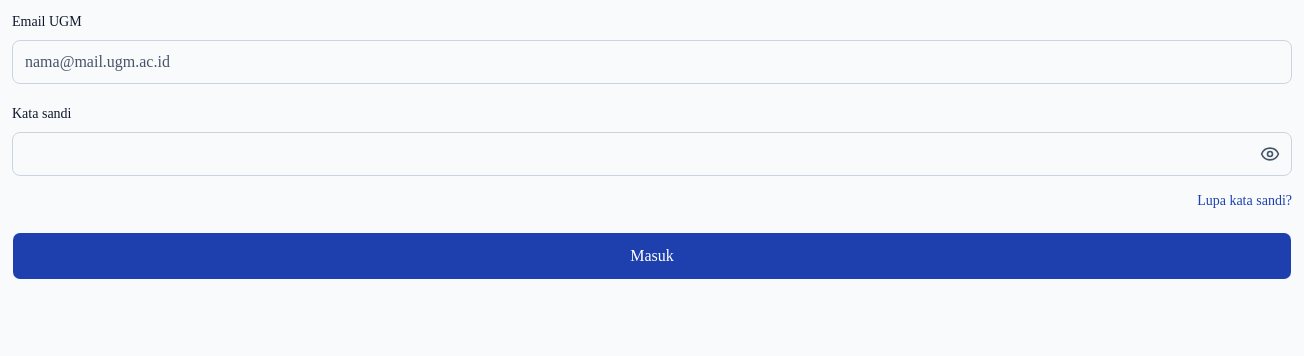
it: LoginForm, US-02 › shows the answer of api for a wrong password
The image size is (1304, 356).
Type "rani@mail.ugm.ac.id" into the field labelled "Email UGM". click: (652, 62)
box: [12,40,1292,84]
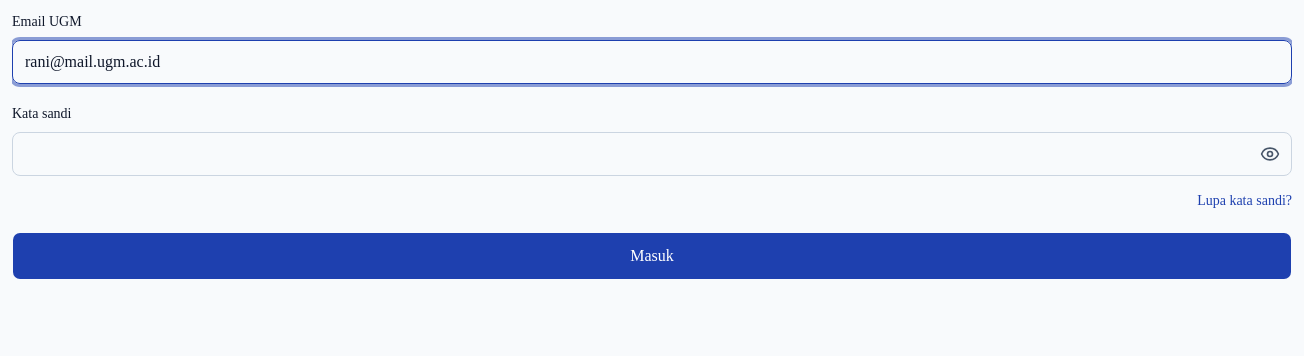
Type "salah sekali" into the password field labelled "Kata sandi". click: (652, 154)
box: [12,132,1292,176]
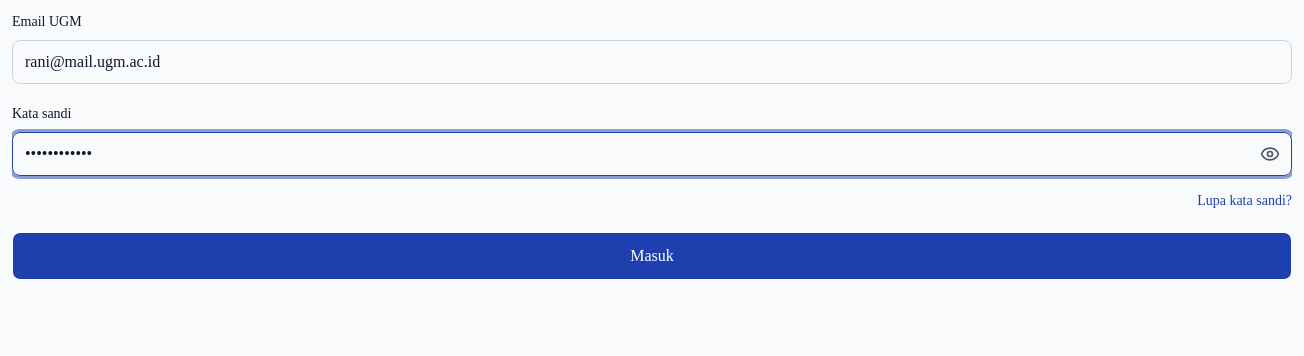
Click the button "Masuk". click: (652, 256)
box: [12,232,1292,280]
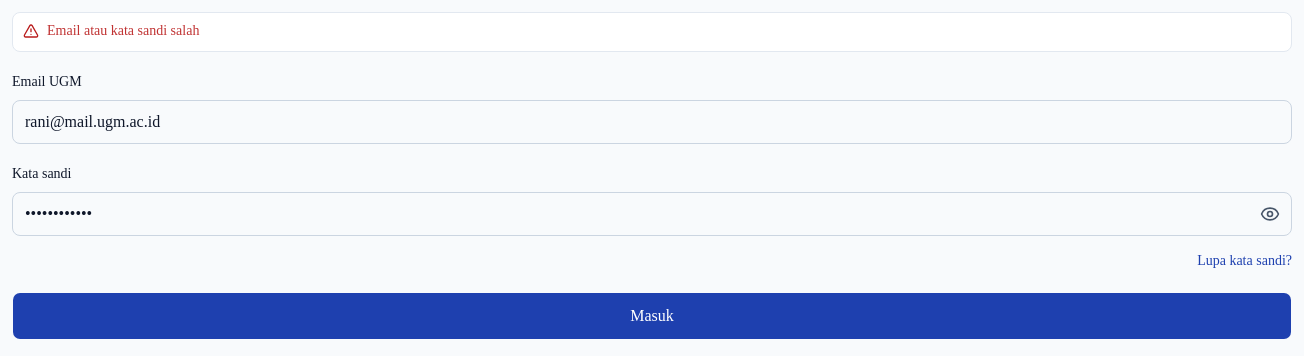
Now the text "Email atau kata sandi salah" is shown, box [47,23,199,38]
